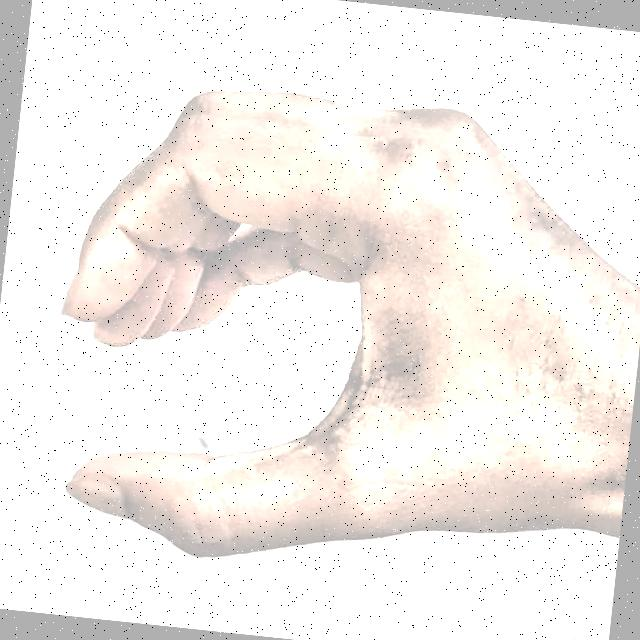Ka: (19, 19, 624, 618)
